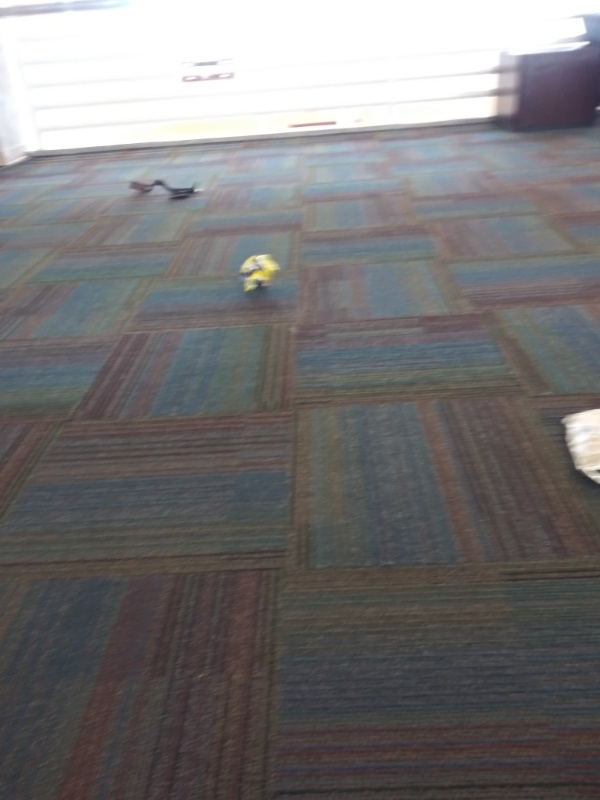bag: (553, 397, 600, 492), (234, 248, 282, 300)
